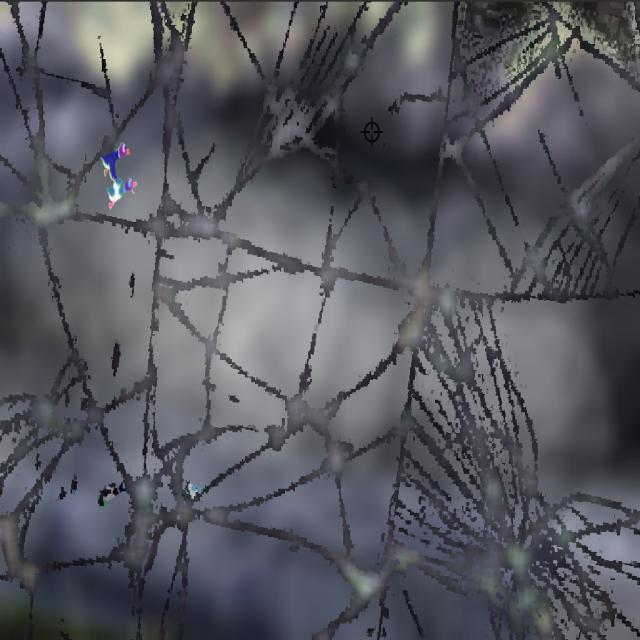duck: (104, 174, 138, 216), (98, 145, 130, 179), (180, 472, 204, 507)
